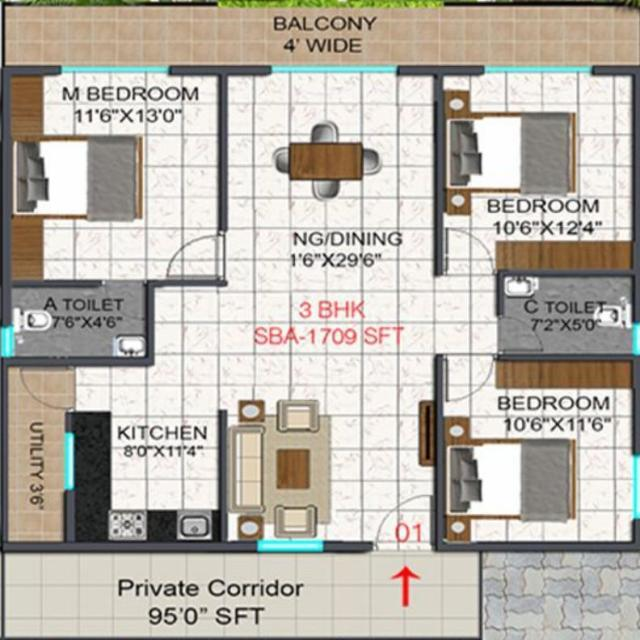Bedroom: (432, 65, 637, 275), (438, 352, 640, 553)
Bedroom with Toilet: (0, 64, 224, 286)
Dining: (268, 122, 384, 207)
Enterance-Foyer: (372, 485, 436, 612)
Kitchen: (72, 360, 230, 551)
Living: (220, 352, 438, 548)
Toilet: (495, 272, 639, 360), (0, 288, 150, 367)
Utility: (2, 360, 74, 555)
